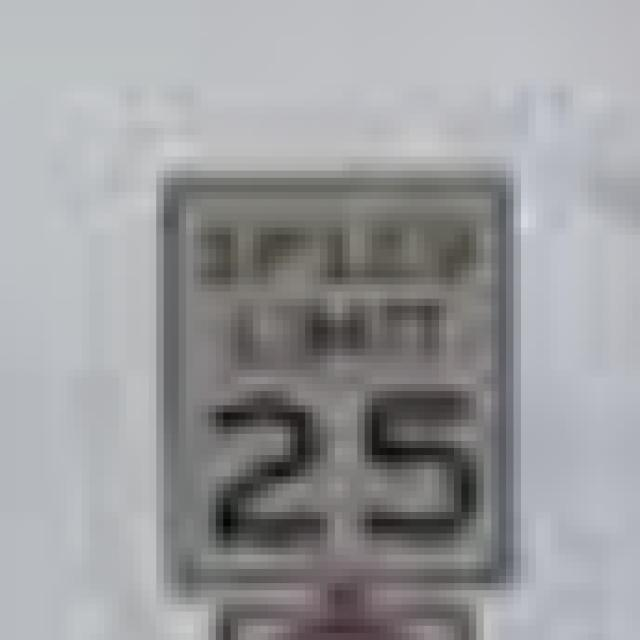speedLimit25: (158, 164, 518, 593)
